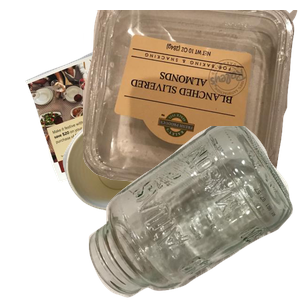glass: (86, 126, 300, 300)
paper: (23, 24, 232, 199)
plastic: (83, 10, 300, 190)
trash: (60, 120, 300, 300)
